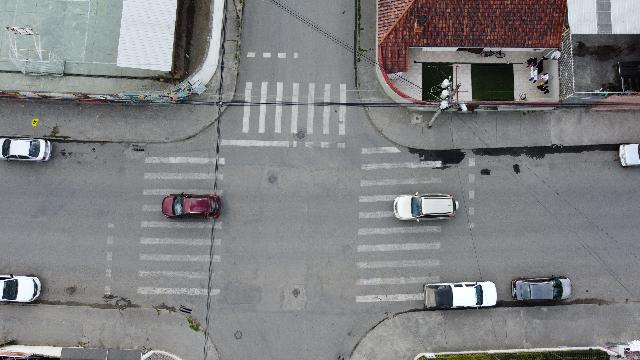Vehiculo: (423, 281, 497, 309), (394, 192, 458, 221), (511, 274, 571, 302), (162, 192, 220, 219), (1, 138, 52, 162), (0, 274, 40, 302), (619, 144, 640, 166)
